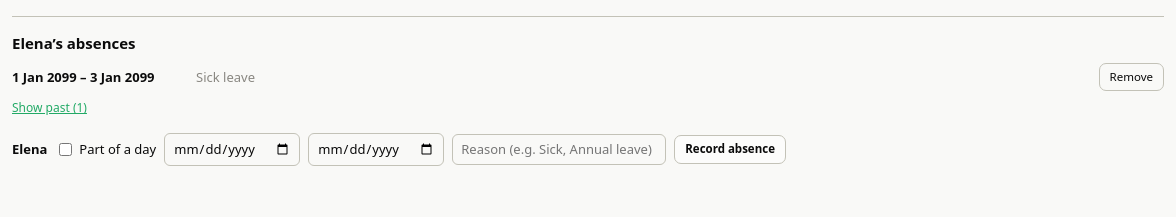
Test case: OperatorAbsences — reading this person's own absences (R-360) › past absences are hidden by default, behind a 'show past' toggle naming the count
This screenshot has width=1176, height=217.
Check: the number of list items is 1, box [12,63,1164,92]
Click the button "Show past (1)".
click(50, 108)  # box [12,99,87,117]
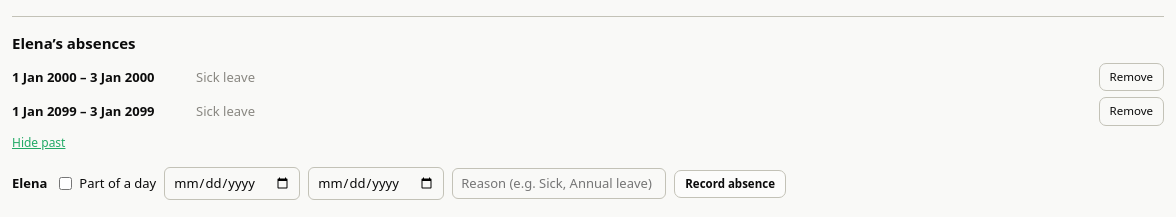
Check: the number of list items is 2, box [12,63,1164,92]; [12,97,1164,126]
Check: the button "Hide past" is shown, box [12,134,66,152]
